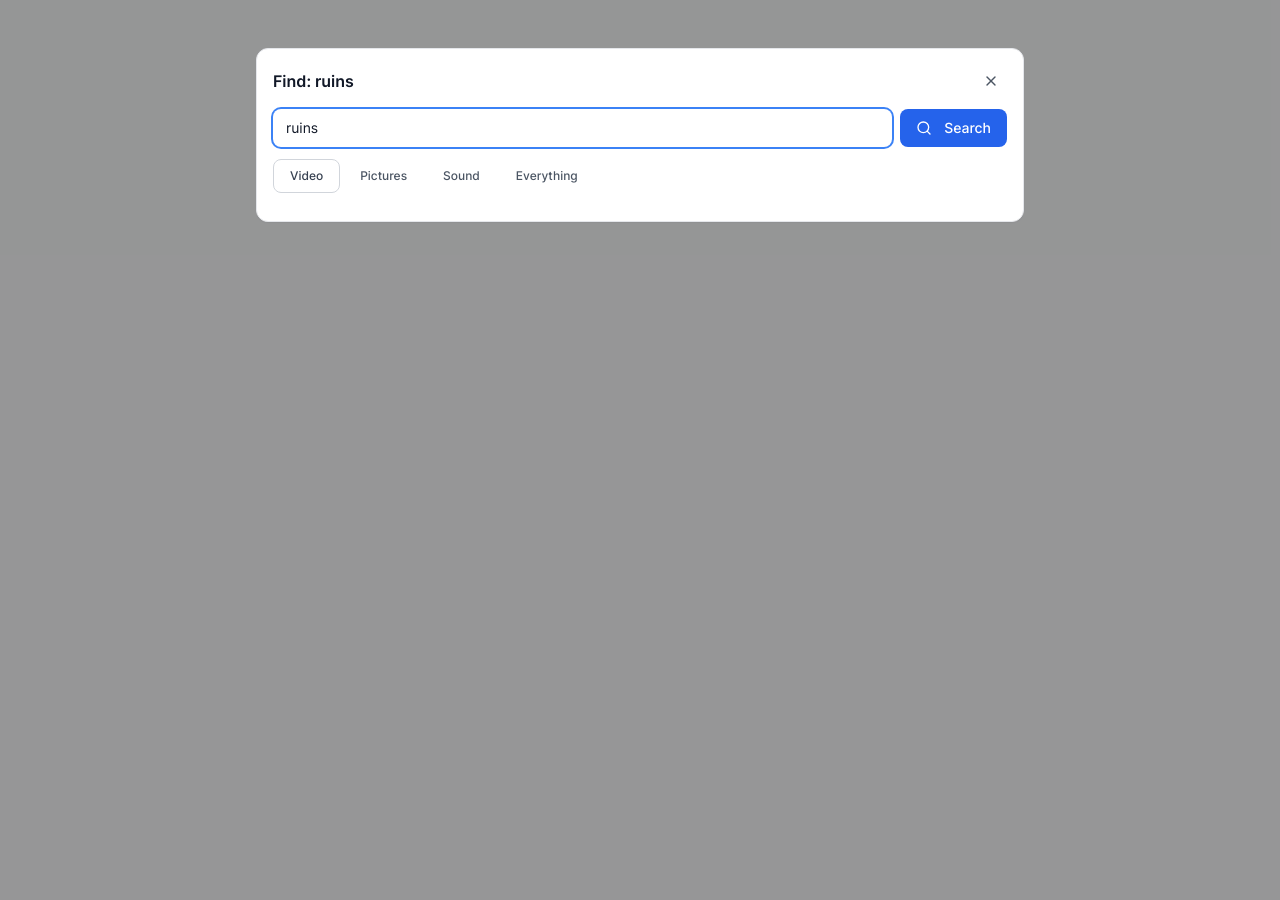
FootageSearch › sizes the moment the way a placeholder asked for
Click the button "Search": coordinates (954, 128) x1=900 y1=109 x2=1007 y2=147
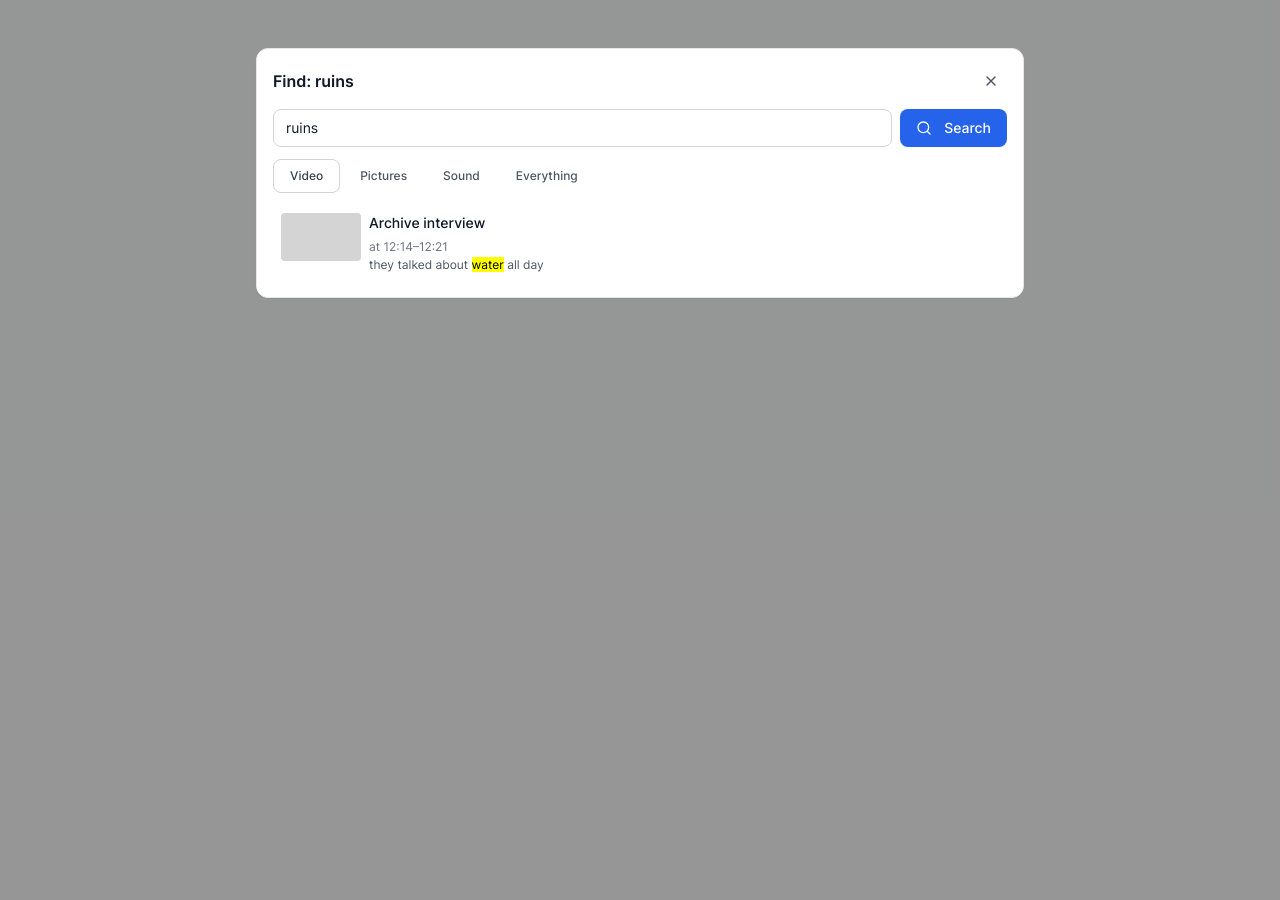
Click the button "Archive interview": coordinates (321, 237) x1=273 y1=205 x2=634 y2=281
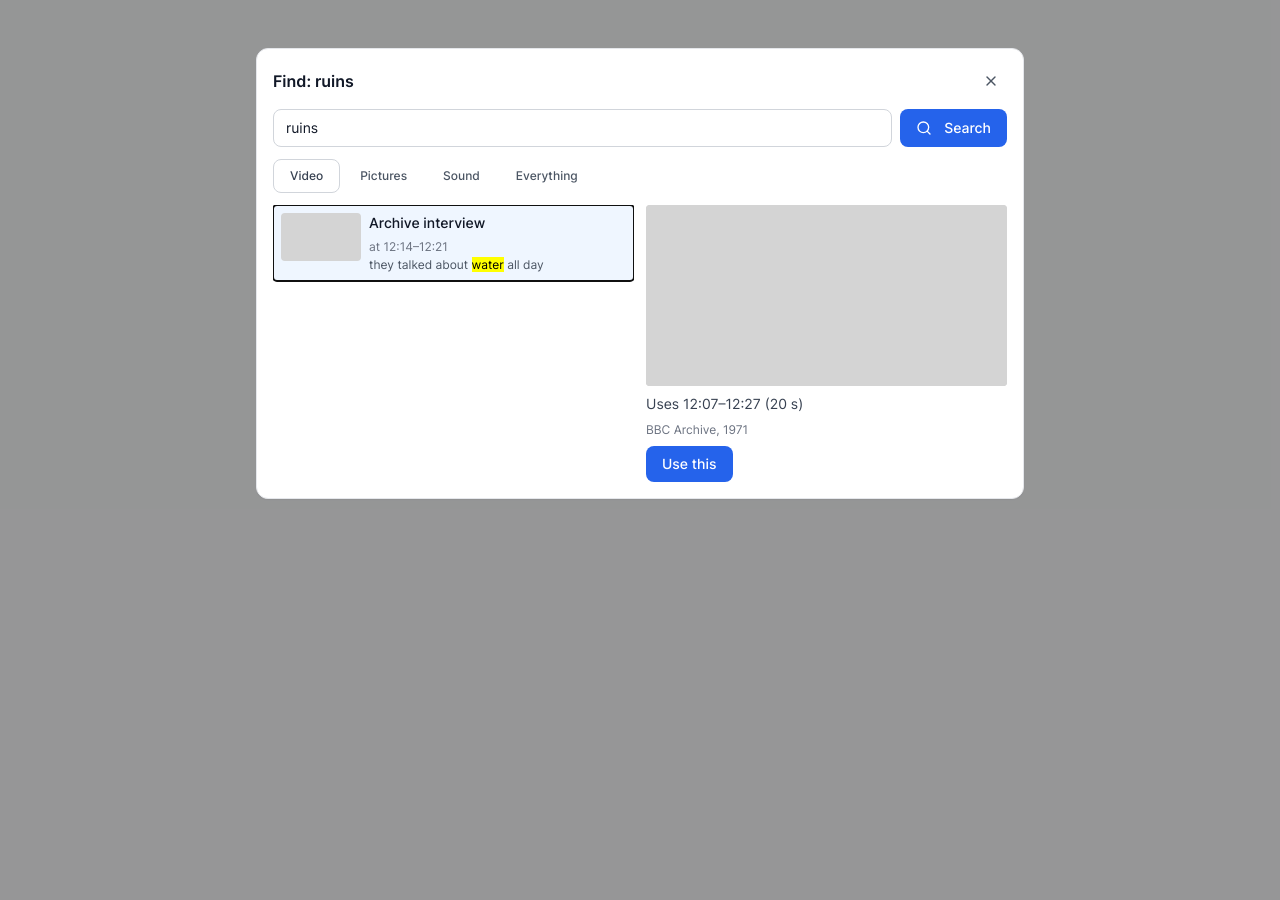
Check: the text "Uses 12:07–12:27 (20 s)" is shown, box x1=646 y1=394 x2=803 y2=412
Check: the button "Use this" is shown, box x1=646 y1=446 x2=732 y2=482
